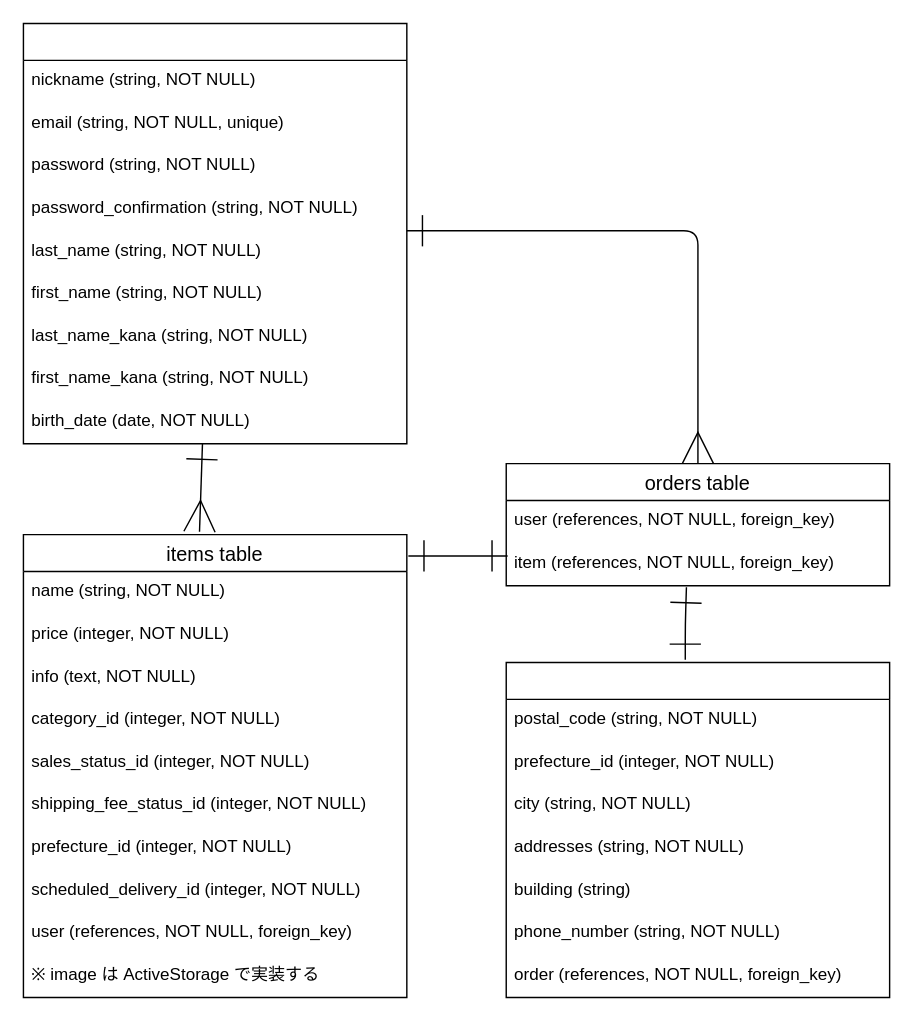
The diagram is 913 pixels wide and 1021 high, and some of its shapes have lost their labels. Here are the shapes that lost their labels. From the top down, the box of each, then its label:
(22, 22, 407, 444): users table
(505, 661, 890, 998): address table
